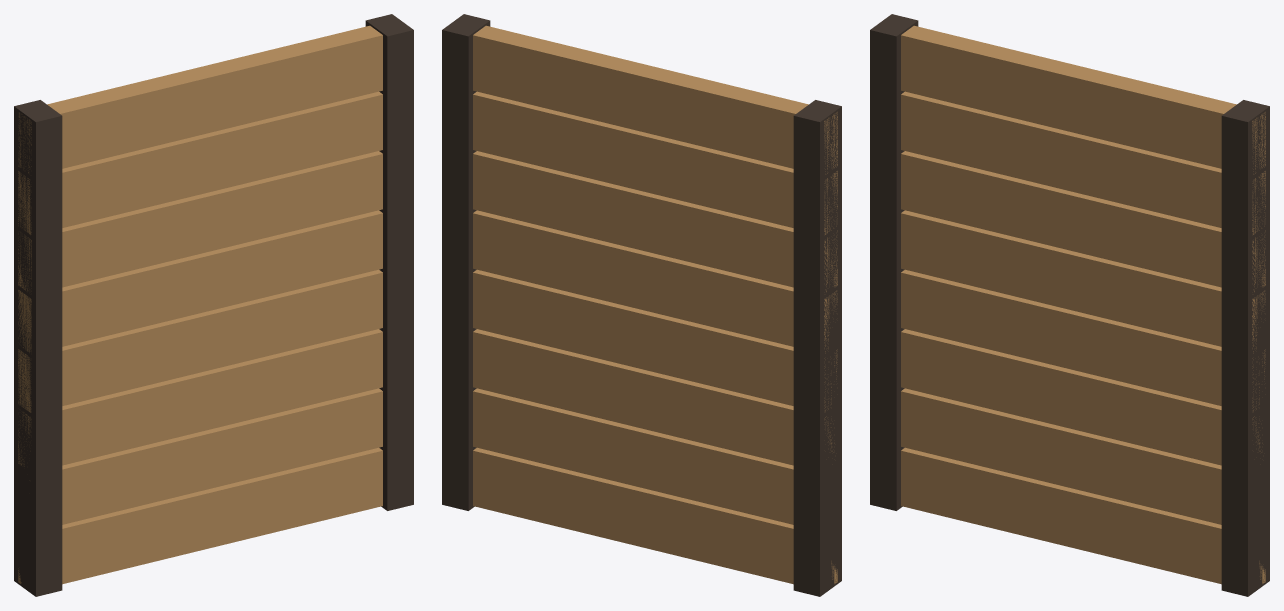
The model's file is wood_wall.glb.
The picture shows the model from 3 angles, left to right: view 1: azimuth 30°, elevation 25°; view 2: azimuth 150°, elevation 25°; view 3: azimuth 330°, elevation 25°; orthographic projection.
Parts seen in each view (by area): view 1: wood_wall; view 2: wood_wall; view 3: wood_wall.
Boxes of the visible parts, <box> form: wood_wall: <box>14,14,413,596</box>; wood_wall: <box>442,14,841,596</box>; wood_wall: <box>870,14,1269,596</box>.
Size of the model in its own units: 2 by 2.4 by 0.2.
